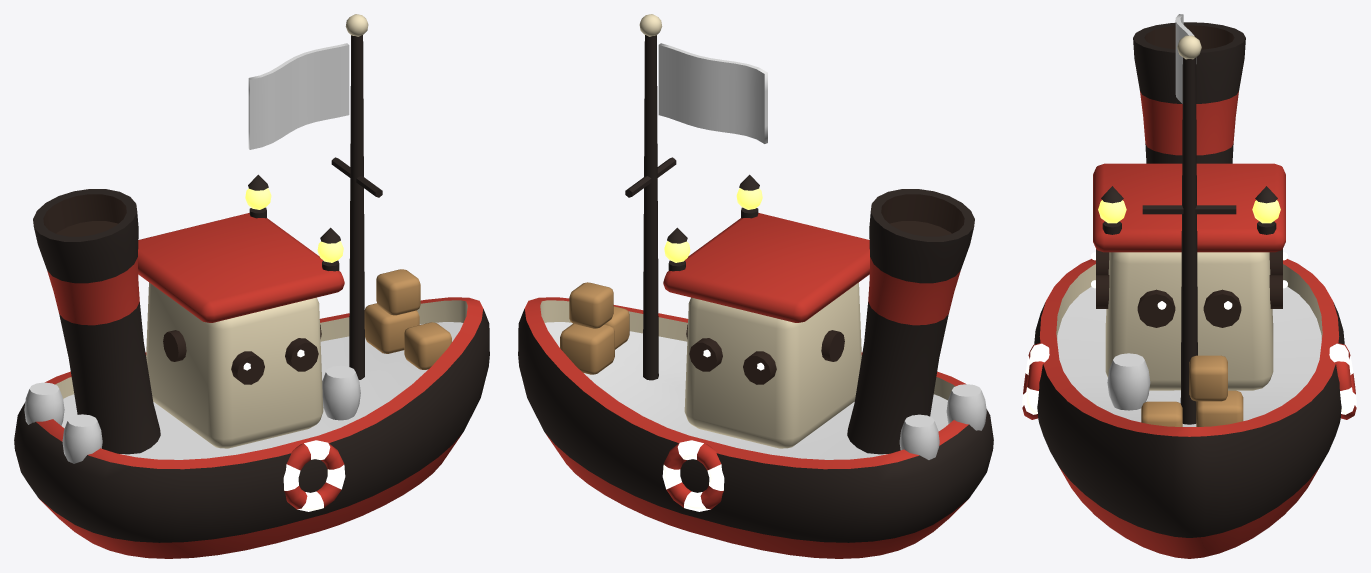
The model's file is cartoon-30.glb.
3 renders of one model, left to right at view 1: azimuth 30°, elevation 25°; view 2: azimuth 150°, elevation 25°; view 3: azimuth 270°, elevation 25°, orthographic. The views are drawn at different scales.
Parts seen in each view (by area): view 1: hull, chimney, cabin, roof, flag, mast, crates, life_rings, portholes, barrel.002, barrel.001, barrel; view 2: hull, chimney, cabin, roof, flag, mast, crates, life_rings, portholes, barrel.001, barrel; view 3: hull, cabin, roof, chimney, mast, crates, portholes, life_rings, barrel.002, flag, lantern_glow, lantern_glow.001 (+3 smaller).
Boxes of the visible parts, left/top/right/bottom form: hull: left=14, top=297, right=489, bottom=558; chimney: left=33, top=189, right=160, bottom=454; cabin: left=146, top=282, right=323, bottom=448; roof: left=138, top=213, right=344, bottom=322; flag: left=248, top=43, right=349, bottom=149; mast: left=331, top=35, right=382, bottom=379; crates: left=364, top=269, right=451, bottom=369; life_rings: left=283, top=440, right=345, bottom=511; portholes: left=163, top=324, right=321, bottom=384; barrel.002: left=322, top=365, right=360, bottom=420; barrel.001: left=62, top=414, right=102, bottom=463; barrel: left=24, top=382, right=64, bottom=425; hull: left=518, top=297, right=993, bottom=558; chimney: left=847, top=189, right=974, bottom=454; cabin: left=684, top=282, right=861, bottom=448; roof: left=663, top=213, right=869, bottom=322; flag: left=658, top=43, right=767, bottom=143; mast: left=625, top=35, right=676, bottom=380; crates: left=560, top=282, right=629, bottom=374; life_rings: left=662, top=440, right=724, bottom=511; portholes: left=686, top=324, right=844, bottom=384; barrel.001: left=946, top=384, right=986, bottom=430; barrel: left=899, top=414, right=939, bottom=459; hull: left=1034, top=259, right=1344, bottom=558; cabin: left=1105, top=252, right=1273, bottom=390; roof: left=1093, top=163, right=1285, bottom=252; chimney: left=1133, top=22, right=1245, bottom=163; mast: left=1142, top=57, right=1236, bottom=424; crates: left=1141, top=355, right=1243, bottom=426; portholes: left=1096, top=249, right=1282, bottom=327; life_rings: left=1022, top=343, right=1356, bottom=419; barrel.002: left=1107, top=353, right=1150, bottom=410; flag: left=1175, top=14, right=1196, bottom=103; lantern_glow: left=1098, top=200, right=1126, bottom=223; lantern_glow.001: left=1252, top=200, right=1280, bottom=223.
Bounding box in the file's own units: 2 × 1.91 × 1.21.
